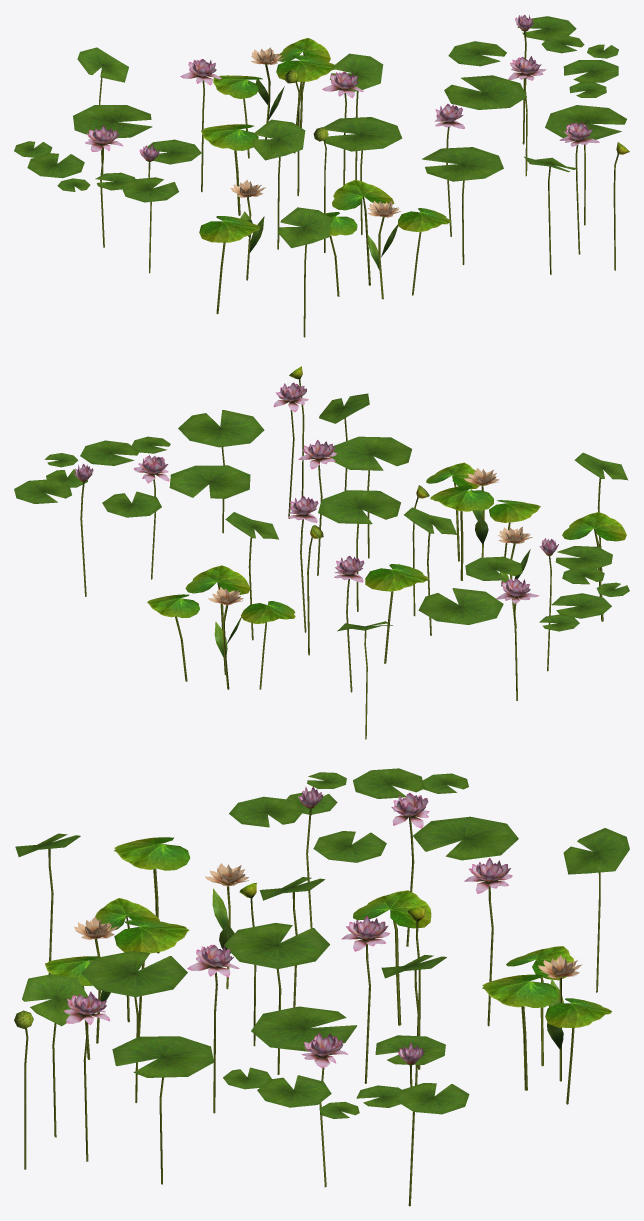
Rendered from lotusflower_10.fbx.
The picture shows the model from 3 angles, top to bottom: view 1: azimuth 30°, elevation 25°; view 2: azimuth 150°, elevation 25°; view 3: azimuth 270°, elevation 25°; orthographic projection. The views are drawn at different scales.
Parts seen in each view (by area): view 1: lotusflower_10; view 2: lotusflower_10; view 3: lotusflower_10.
Boxes of the visible parts, x1,y1,x2,y2 form: lotusflower_10: (14, 14, 629, 337); lotusflower_10: (14, 366, 629, 739); lotusflower_10: (14, 768, 629, 1206).
Bounding box in the file's own units: 8.37 × 1.85 × 6.23.
